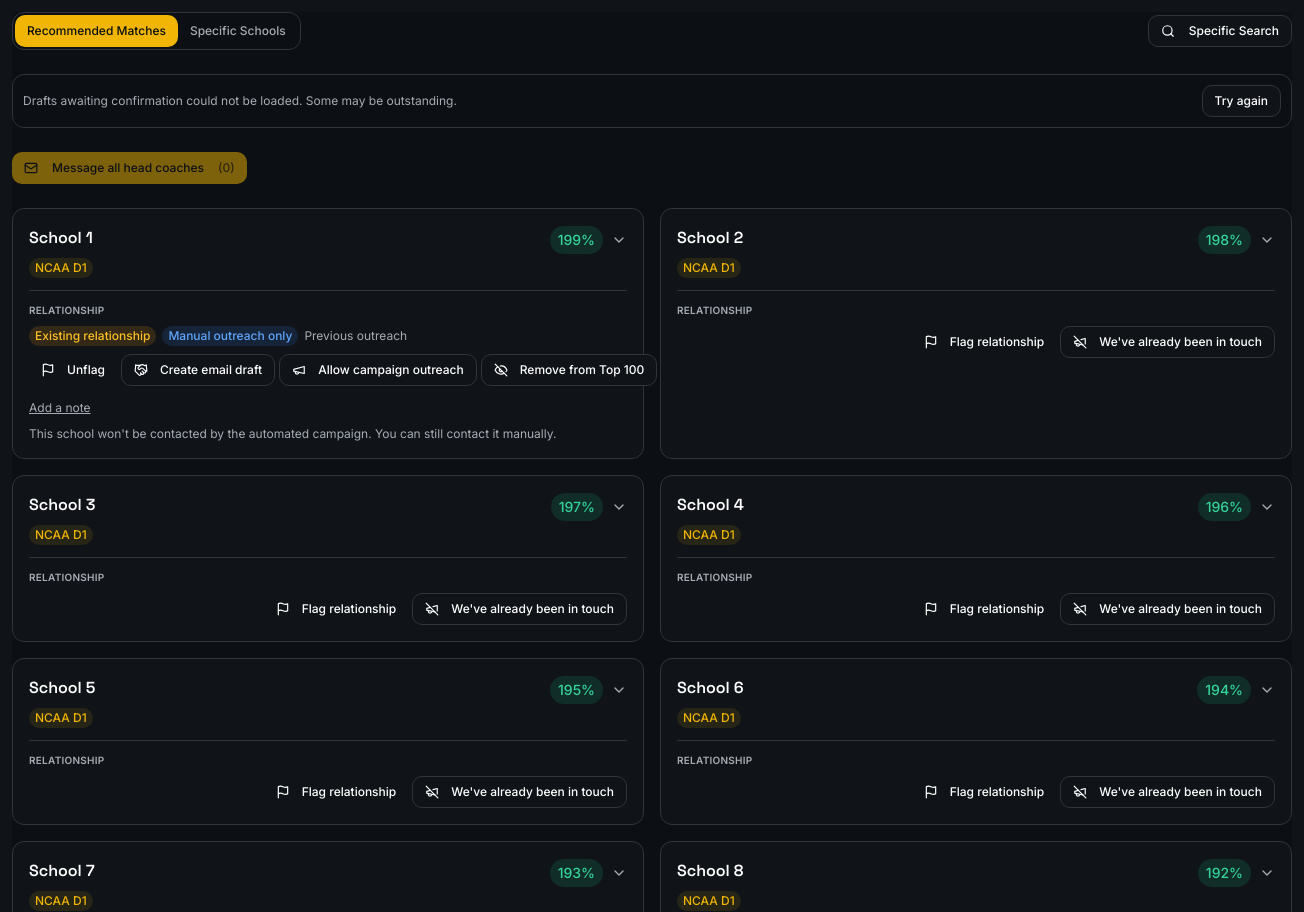
allowing campaign outreach again › leaves the flag and the note on screen afterwards
This screenshot has width=1304, height=912.
Click the button "Allow campaign outreach" at (378, 370), box [279,354,477,386]
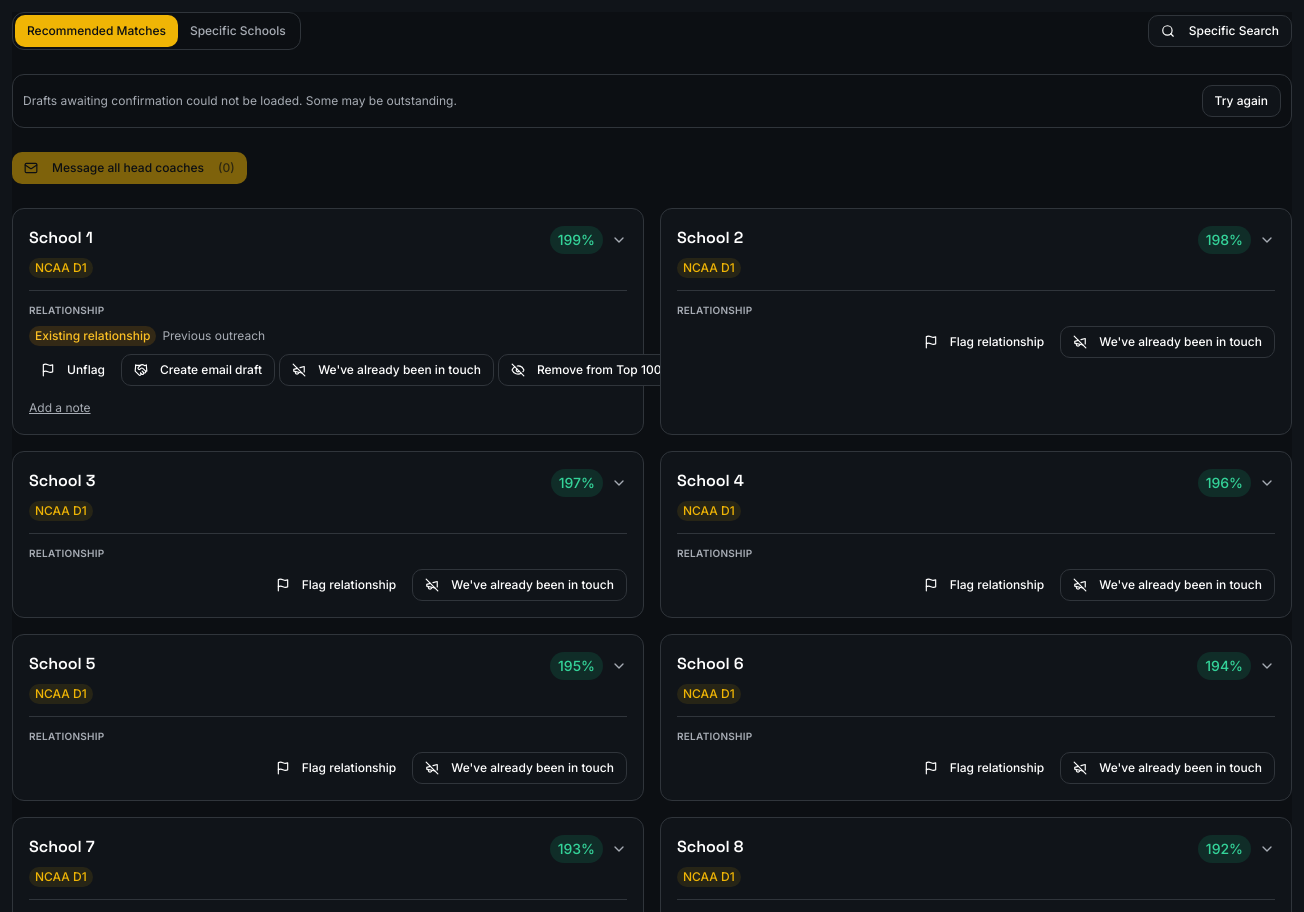
Check: the element with test id "programme-relationship" shows "Previous outreach", box [162,328,265,343]
Check: the text with test id "programme-relationship" no longer shows "Manual outreach only"
